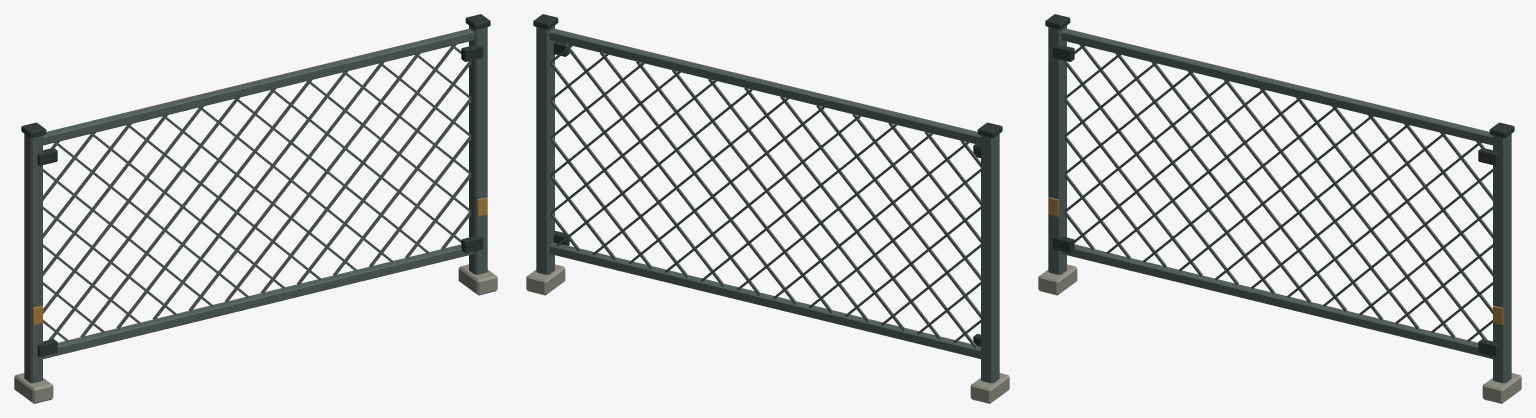
The model's file is FenceSegment.glb.
3 views of the same model, side by side, from view 1: azimuth 30°, elevation 25°; view 2: azimuth 150°, elevation 25°; view 3: azimuth 330°, elevation 25° (orthographic).
Parts seen in each view (by area): view 1: FenceSegment; view 2: FenceSegment; view 3: FenceSegment.
Boxes of the visible parts, x1,y1,x2,y2 form: FenceSegment: [14, 14, 497, 403]; FenceSegment: [526, 14, 1009, 403]; FenceSegment: [1038, 14, 1521, 403].
Size of the model in its own units: 4 by 2.2 by 0.3.
Materials: 1 (1 with a texture image).
